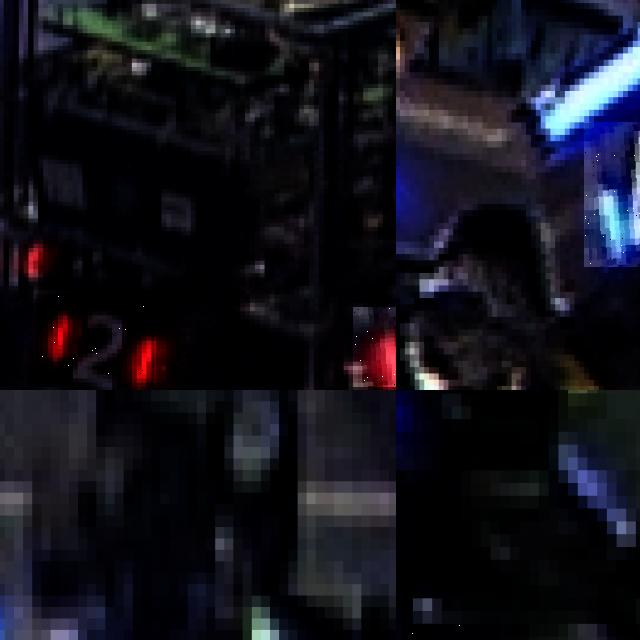B4: (584, 122, 640, 266)
R2: (36, 294, 154, 387), (353, 307, 396, 387)
